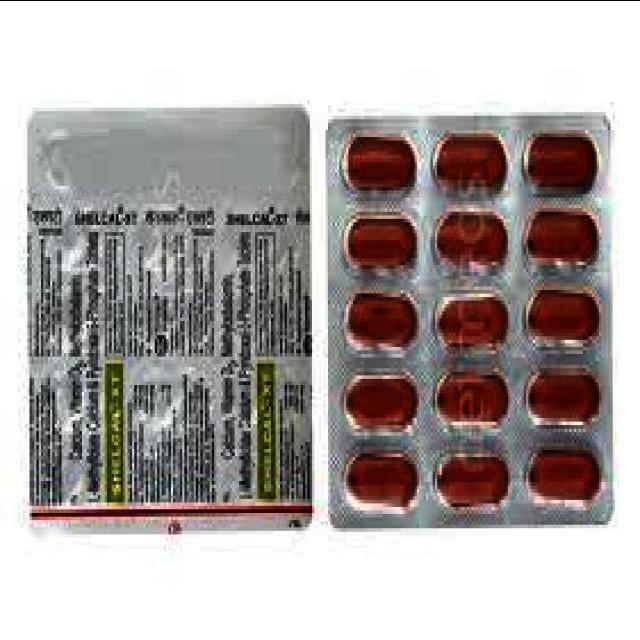authentic: (14, 90, 318, 550), (314, 92, 618, 538)
